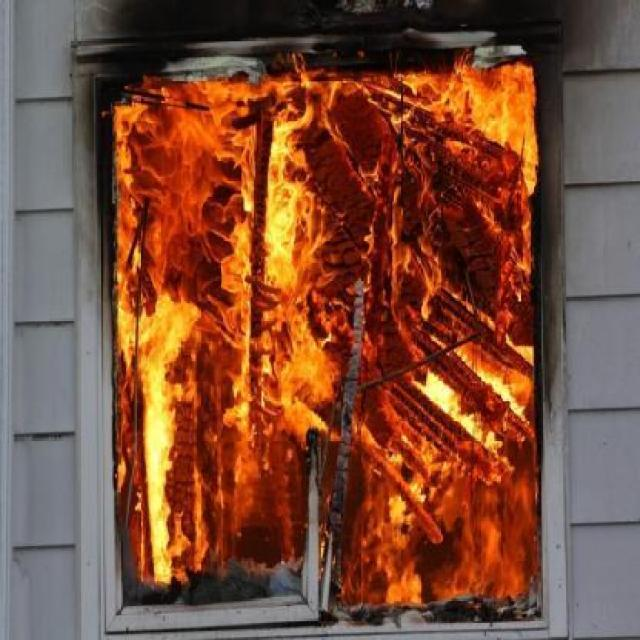Fire: (92, 87, 536, 608)
